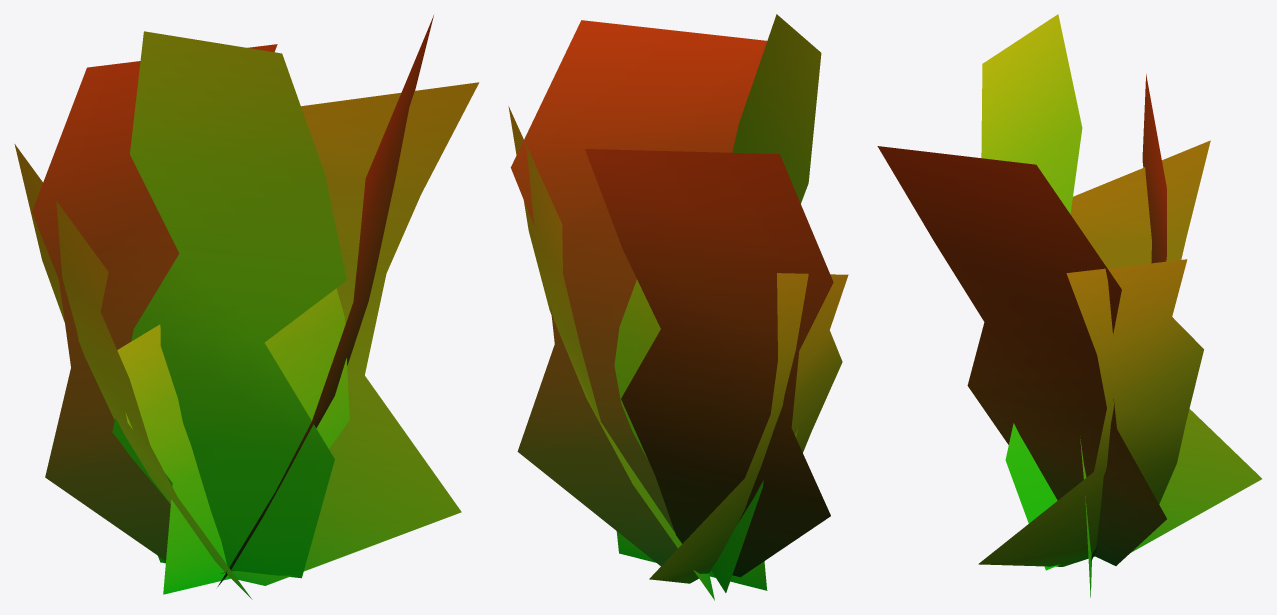
Rendered from Var8Hi25.fbx.
3 renders of one model, left to right at view 1: azimuth 30°, elevation 25°; view 2: azimuth 150°, elevation 25°; view 3: azimuth 270°, elevation 25°, orthographic. The views are drawn at different scales.
Visible parts, largest first — view 1: bend1; view 2: bend1; view 3: bend1.
Part boxes in pixels (x1,y1,x2,y2): bend1: [14, 15, 479, 599]; bend1: [508, 14, 848, 600]; bend1: [877, 14, 1261, 597].
Size of the model in its own units: 1.26 by 1.76 by 1.22.
